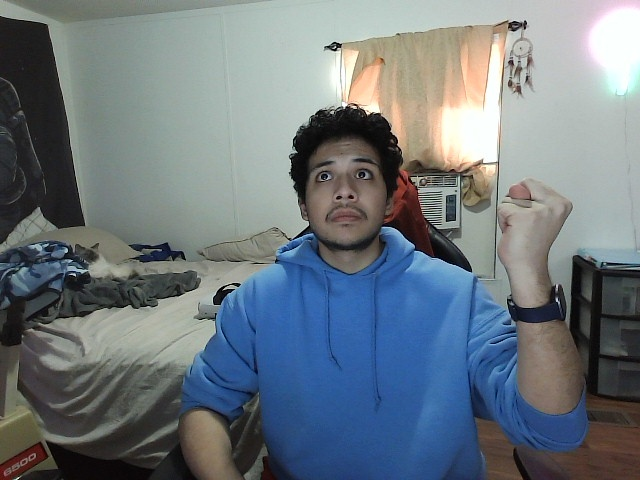N: (487, 175, 577, 270)
